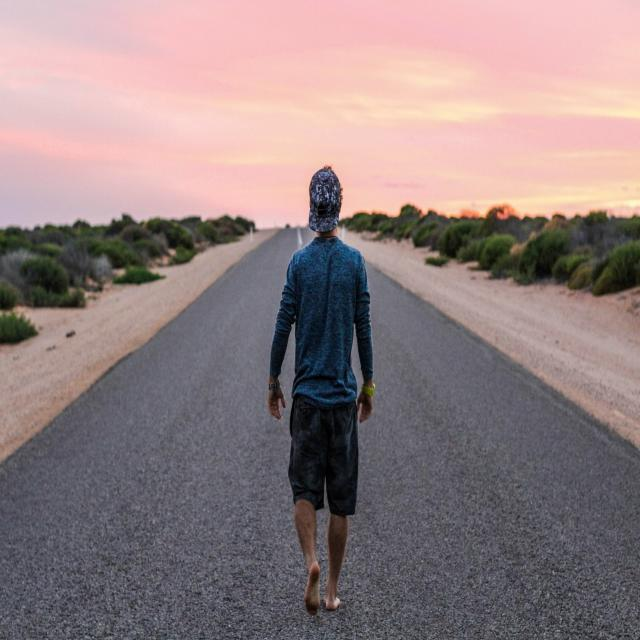adult: (268, 168, 377, 616)
